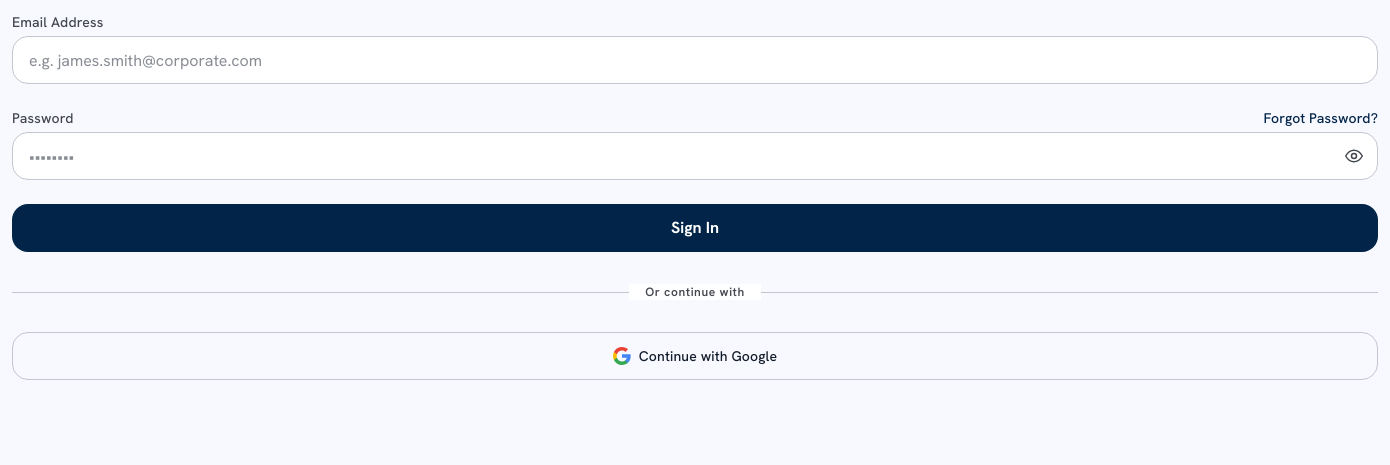
Test: LoginForm › shows the server error and does not redirect when POST /api/auth/login returns a non-ok response (e.g. 404 no account)
The width and height of the screenshot is (1390, 465).
Type "ann@example.com" into the field labelled "Email Address" at (695, 60), box [12, 36, 1378, 84]
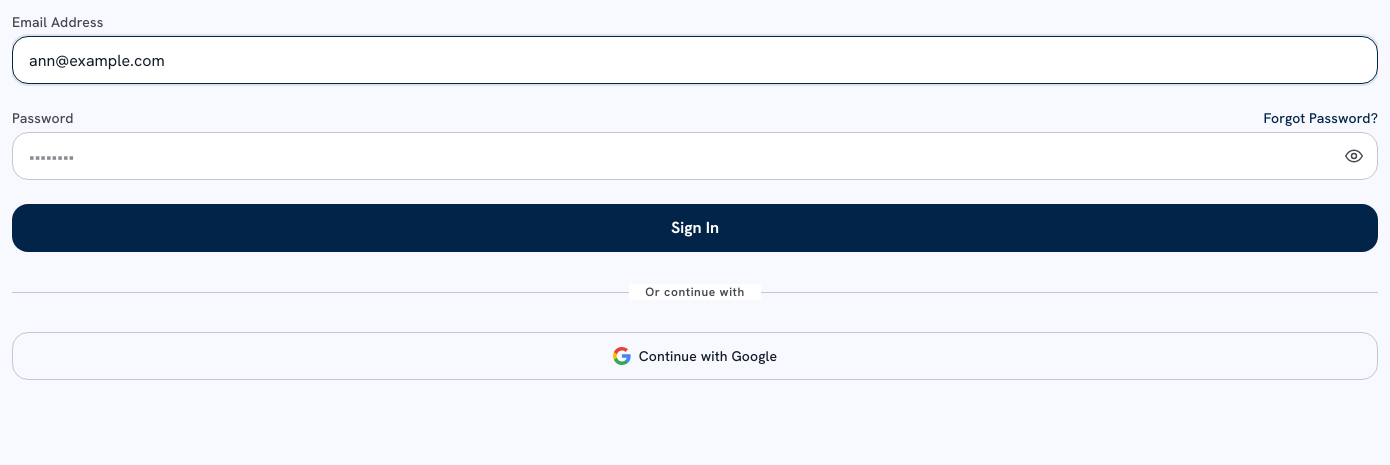
Type "whatever-password" into the password field labelled "Password" at (695, 156), box [12, 132, 1378, 180]
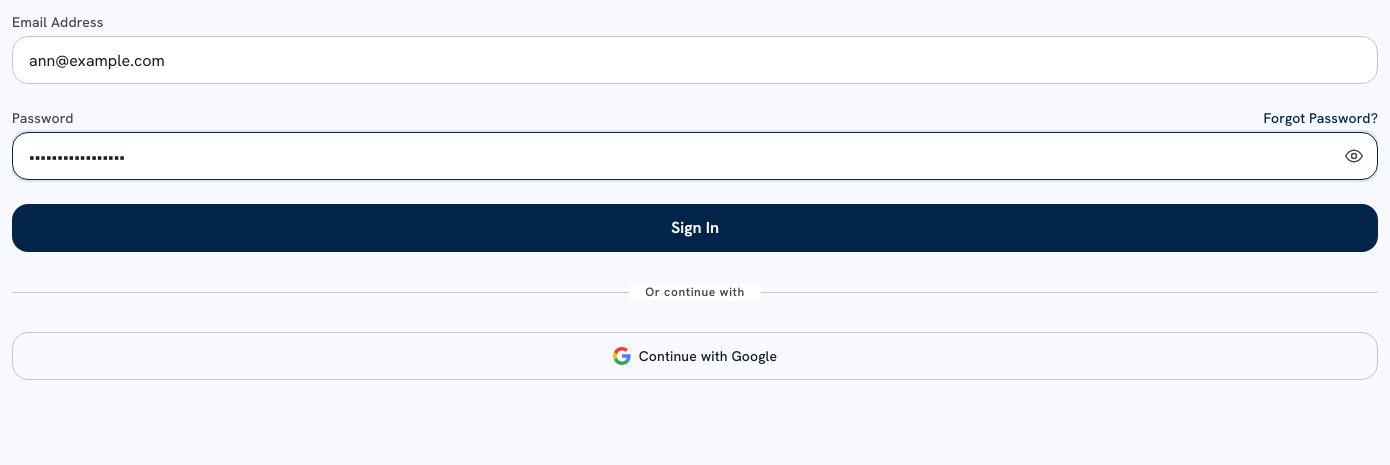
Click the button "Sign In" at (695, 228), box [12, 204, 1378, 252]
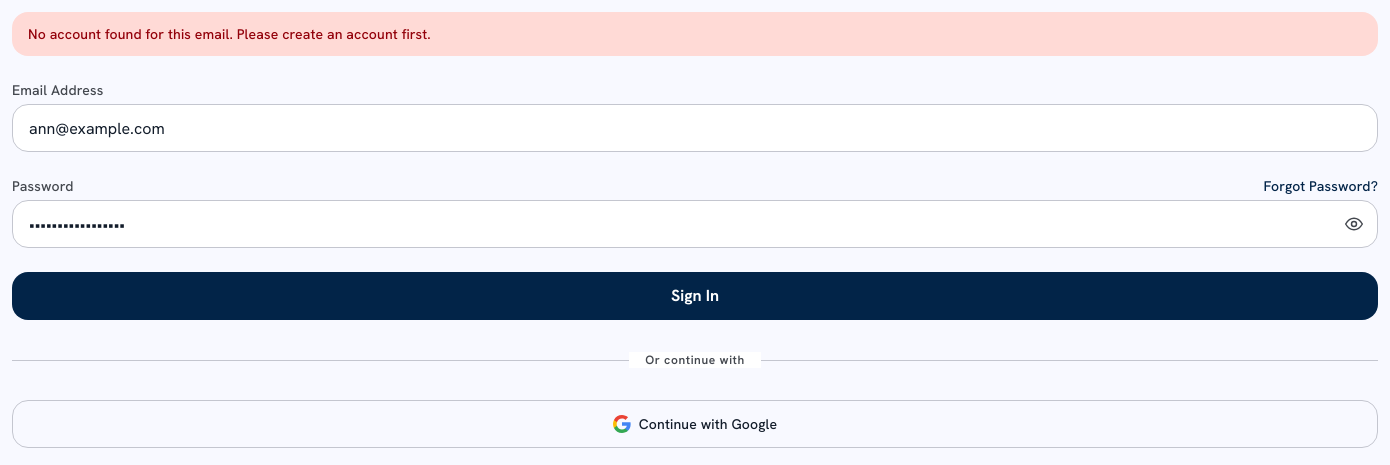
Expected: the text "No account found for this email. Please create an account first." is shown, [12, 12, 1378, 56]
